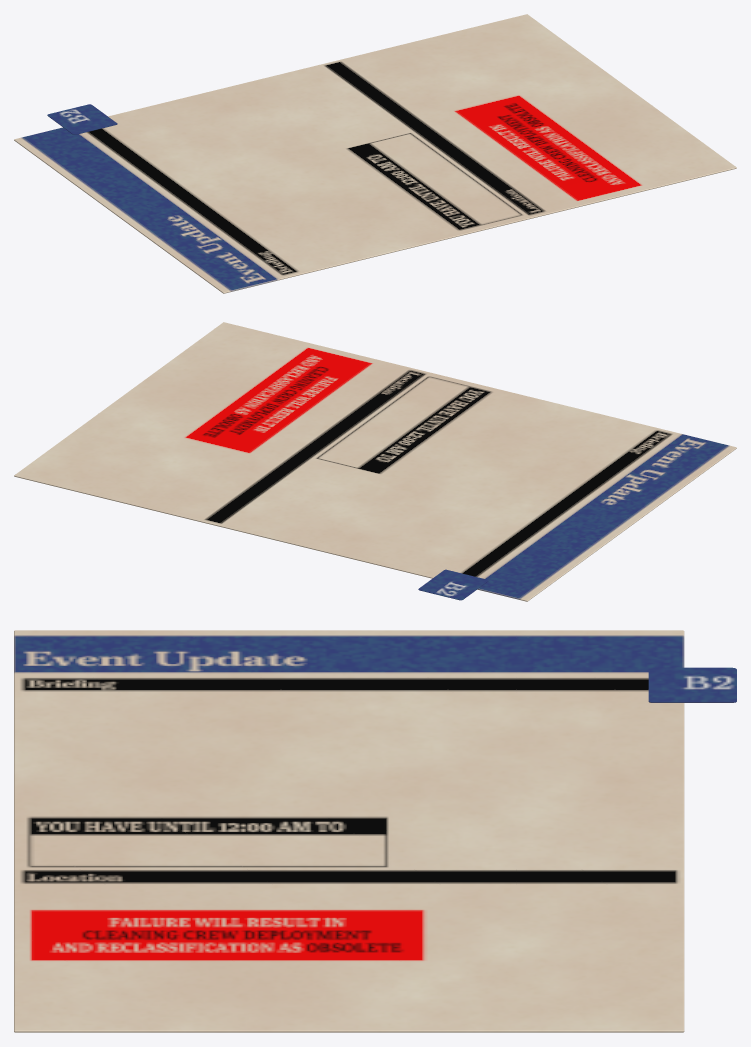
Rendered from secondBriefing.fbx.
3 views of the same model, one above another, from view 1: azimuth 30°, elevation 25°; view 2: azimuth 150°, elevation 25°; view 3: azimuth 270°, elevation 25° (orthographic). The views are drawn at different scales.
Visible parts, largest first — view 1: dossier briefingB; view 2: dossier briefingB; view 3: dossier briefingB.
Boxes of the visible parts, x1=… form: dossier briefingB: x1=14, y1=14, x2=736, y2=293; dossier briefingB: x1=14, y1=322, x2=736, y2=601; dossier briefingB: x1=14, y1=630, x2=736, y2=1032.
Bounding box in the file's own units: 0.2253 × 0.000761 × 0.1718.
